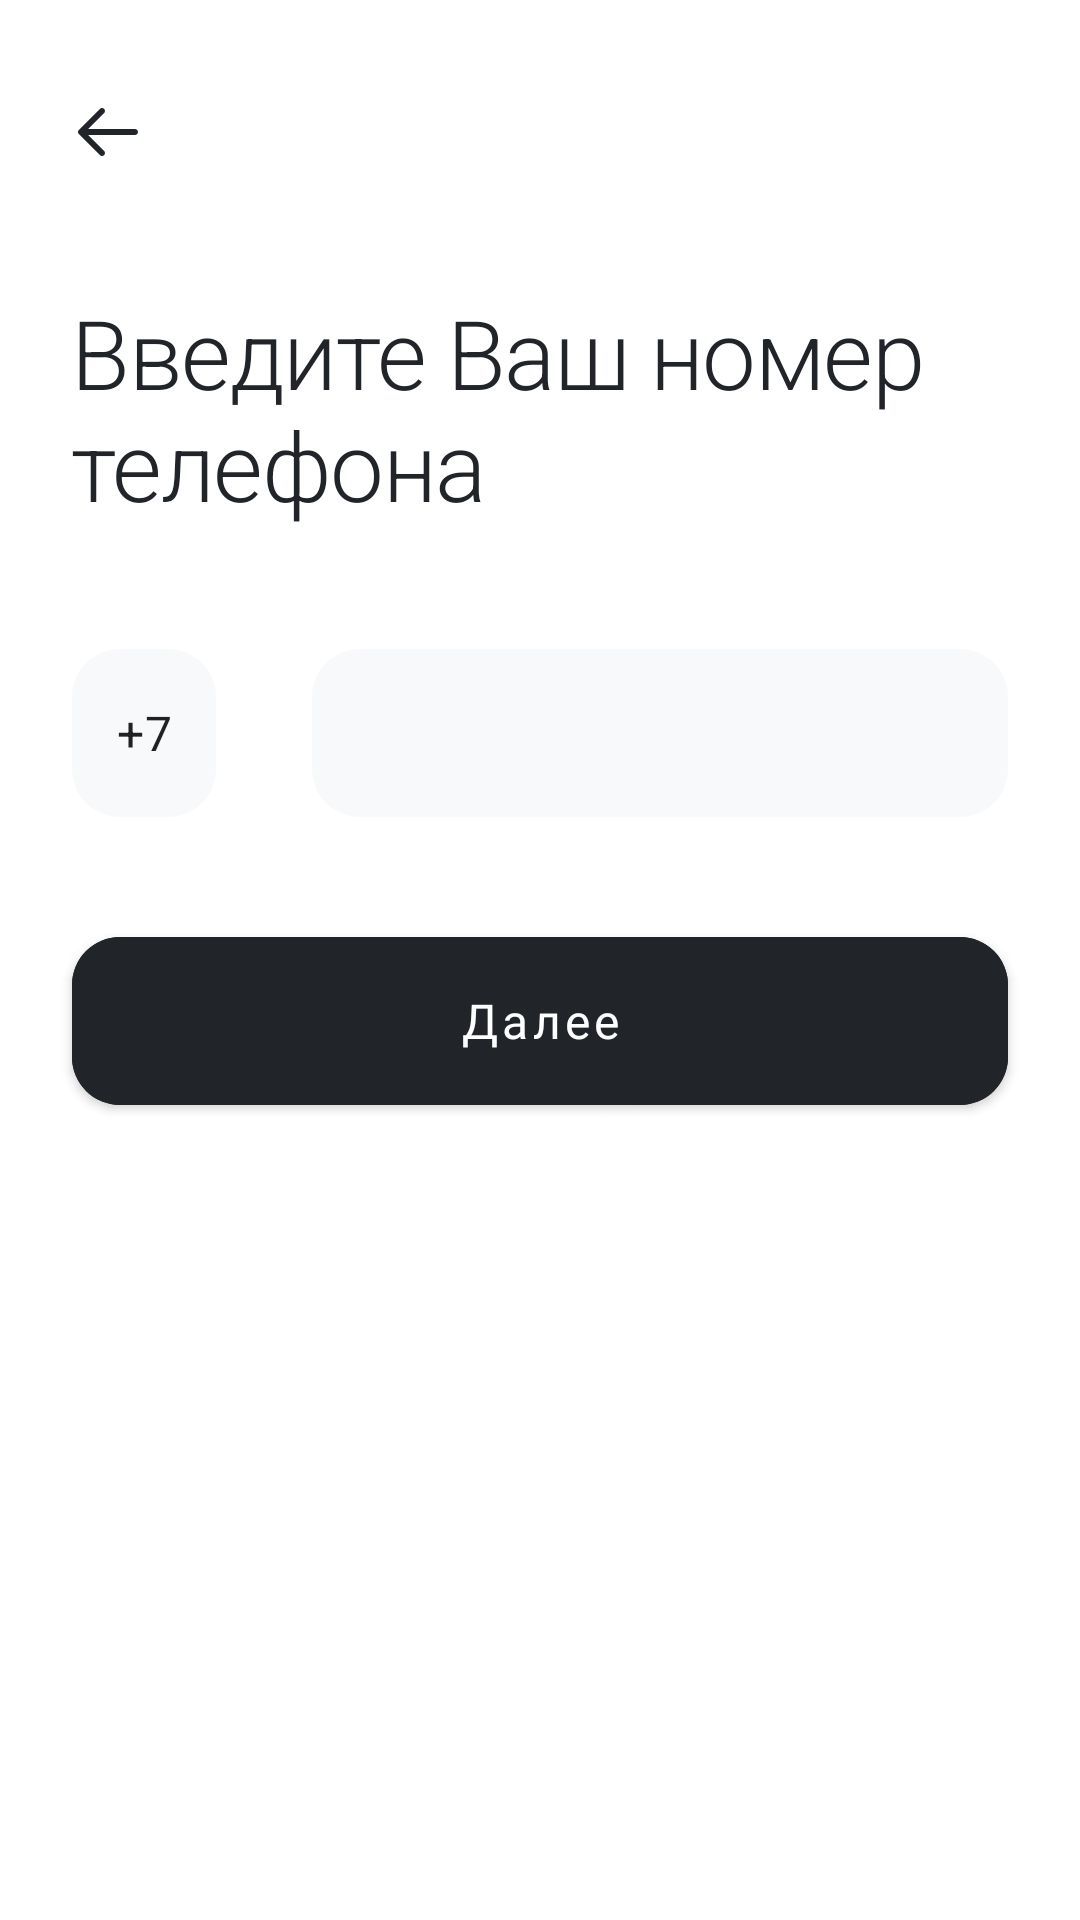

Icon bounding boxes for this 1080 × 1920 phone screenshot, format (x1, y1, x2, y2):
back: (78, 108, 138, 156)
